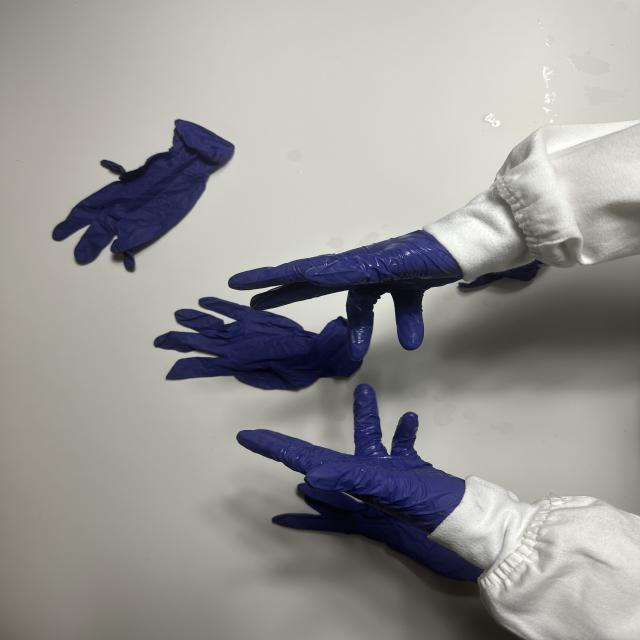gloves_contaminated: (237, 384, 465, 534), (229, 230, 462, 360)
